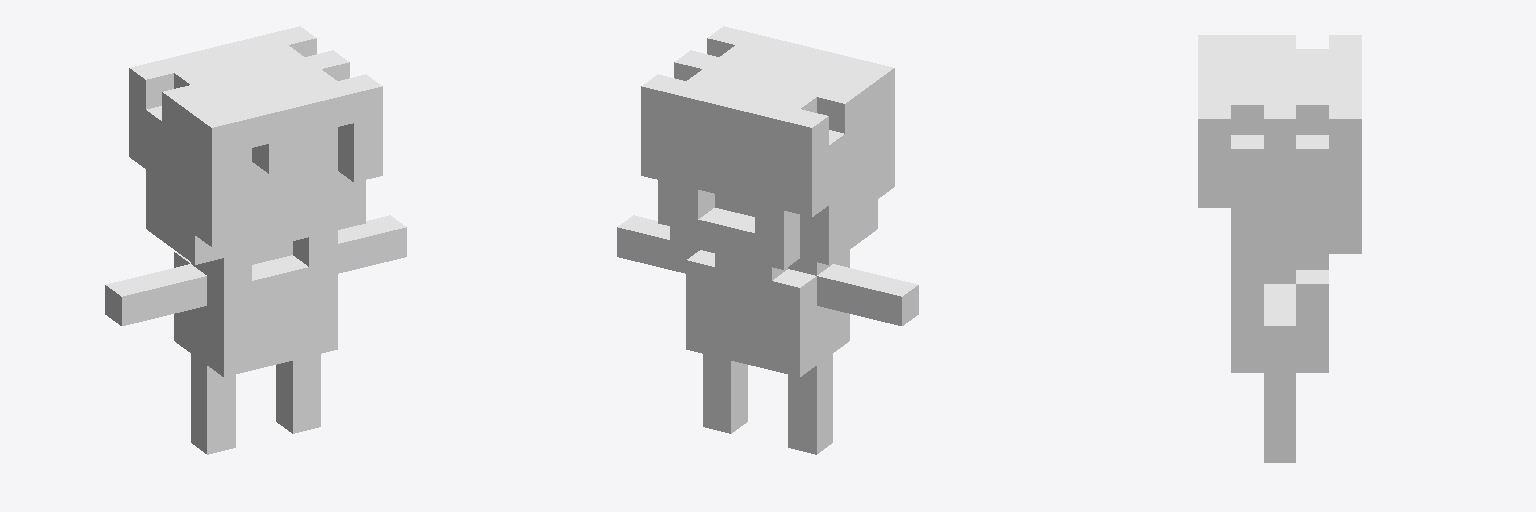
File: panita.obj
3 renders of one model, left to right at view 1: azimuth 30°, elevation 25°; view 2: azimuth 150°, elevation 25°; view 3: azimuth 270°, elevation 25°, orthographic.
Visible parts, largest first — view 1: object 1; view 2: object 1; view 3: object 1.
Part boxes in pixels (left/top/right/bottom): object 1: left=105, top=26, right=406, bottom=454; object 1: left=617, top=26, right=918, bottom=454; object 1: left=1198, top=35, right=1361, bottom=462.
Bounding box in the file's own units: 1 × 1.2 × 0.5.